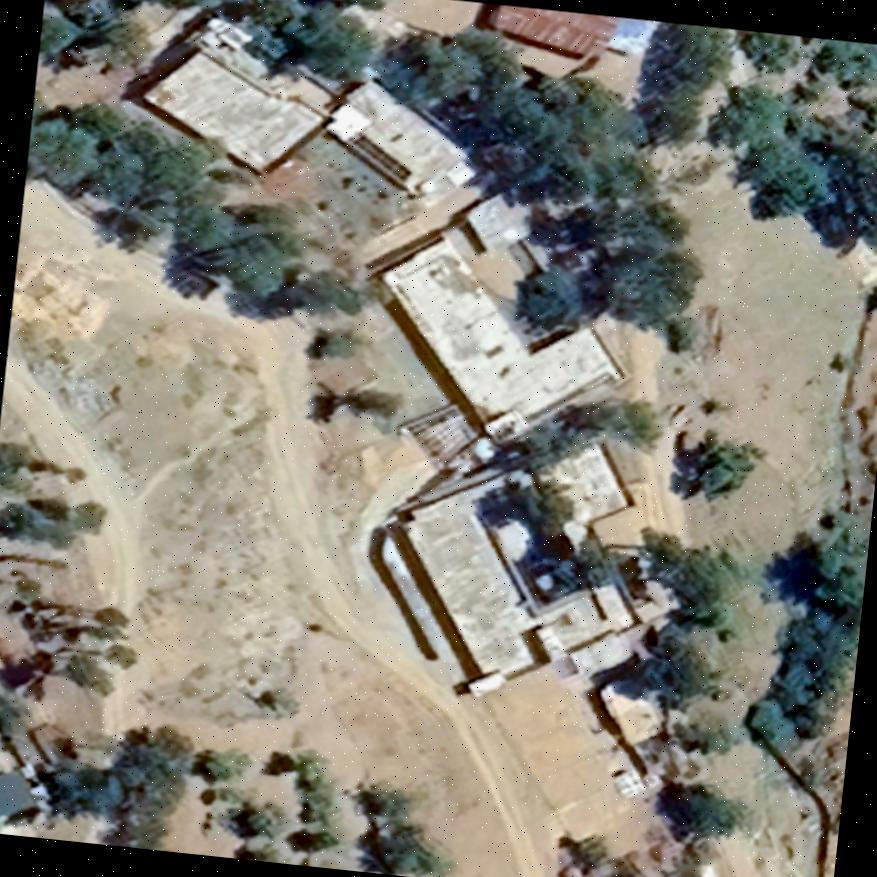Solarpanel: (341, 127, 415, 186)
